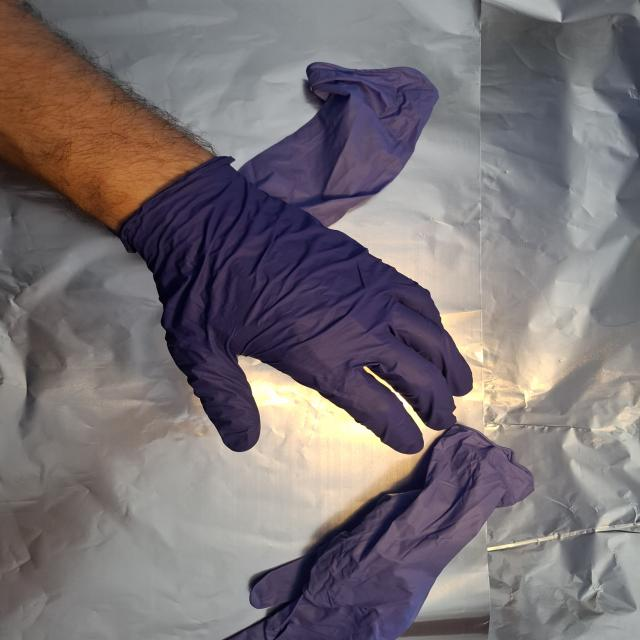glove_on: (122, 156, 476, 459)
